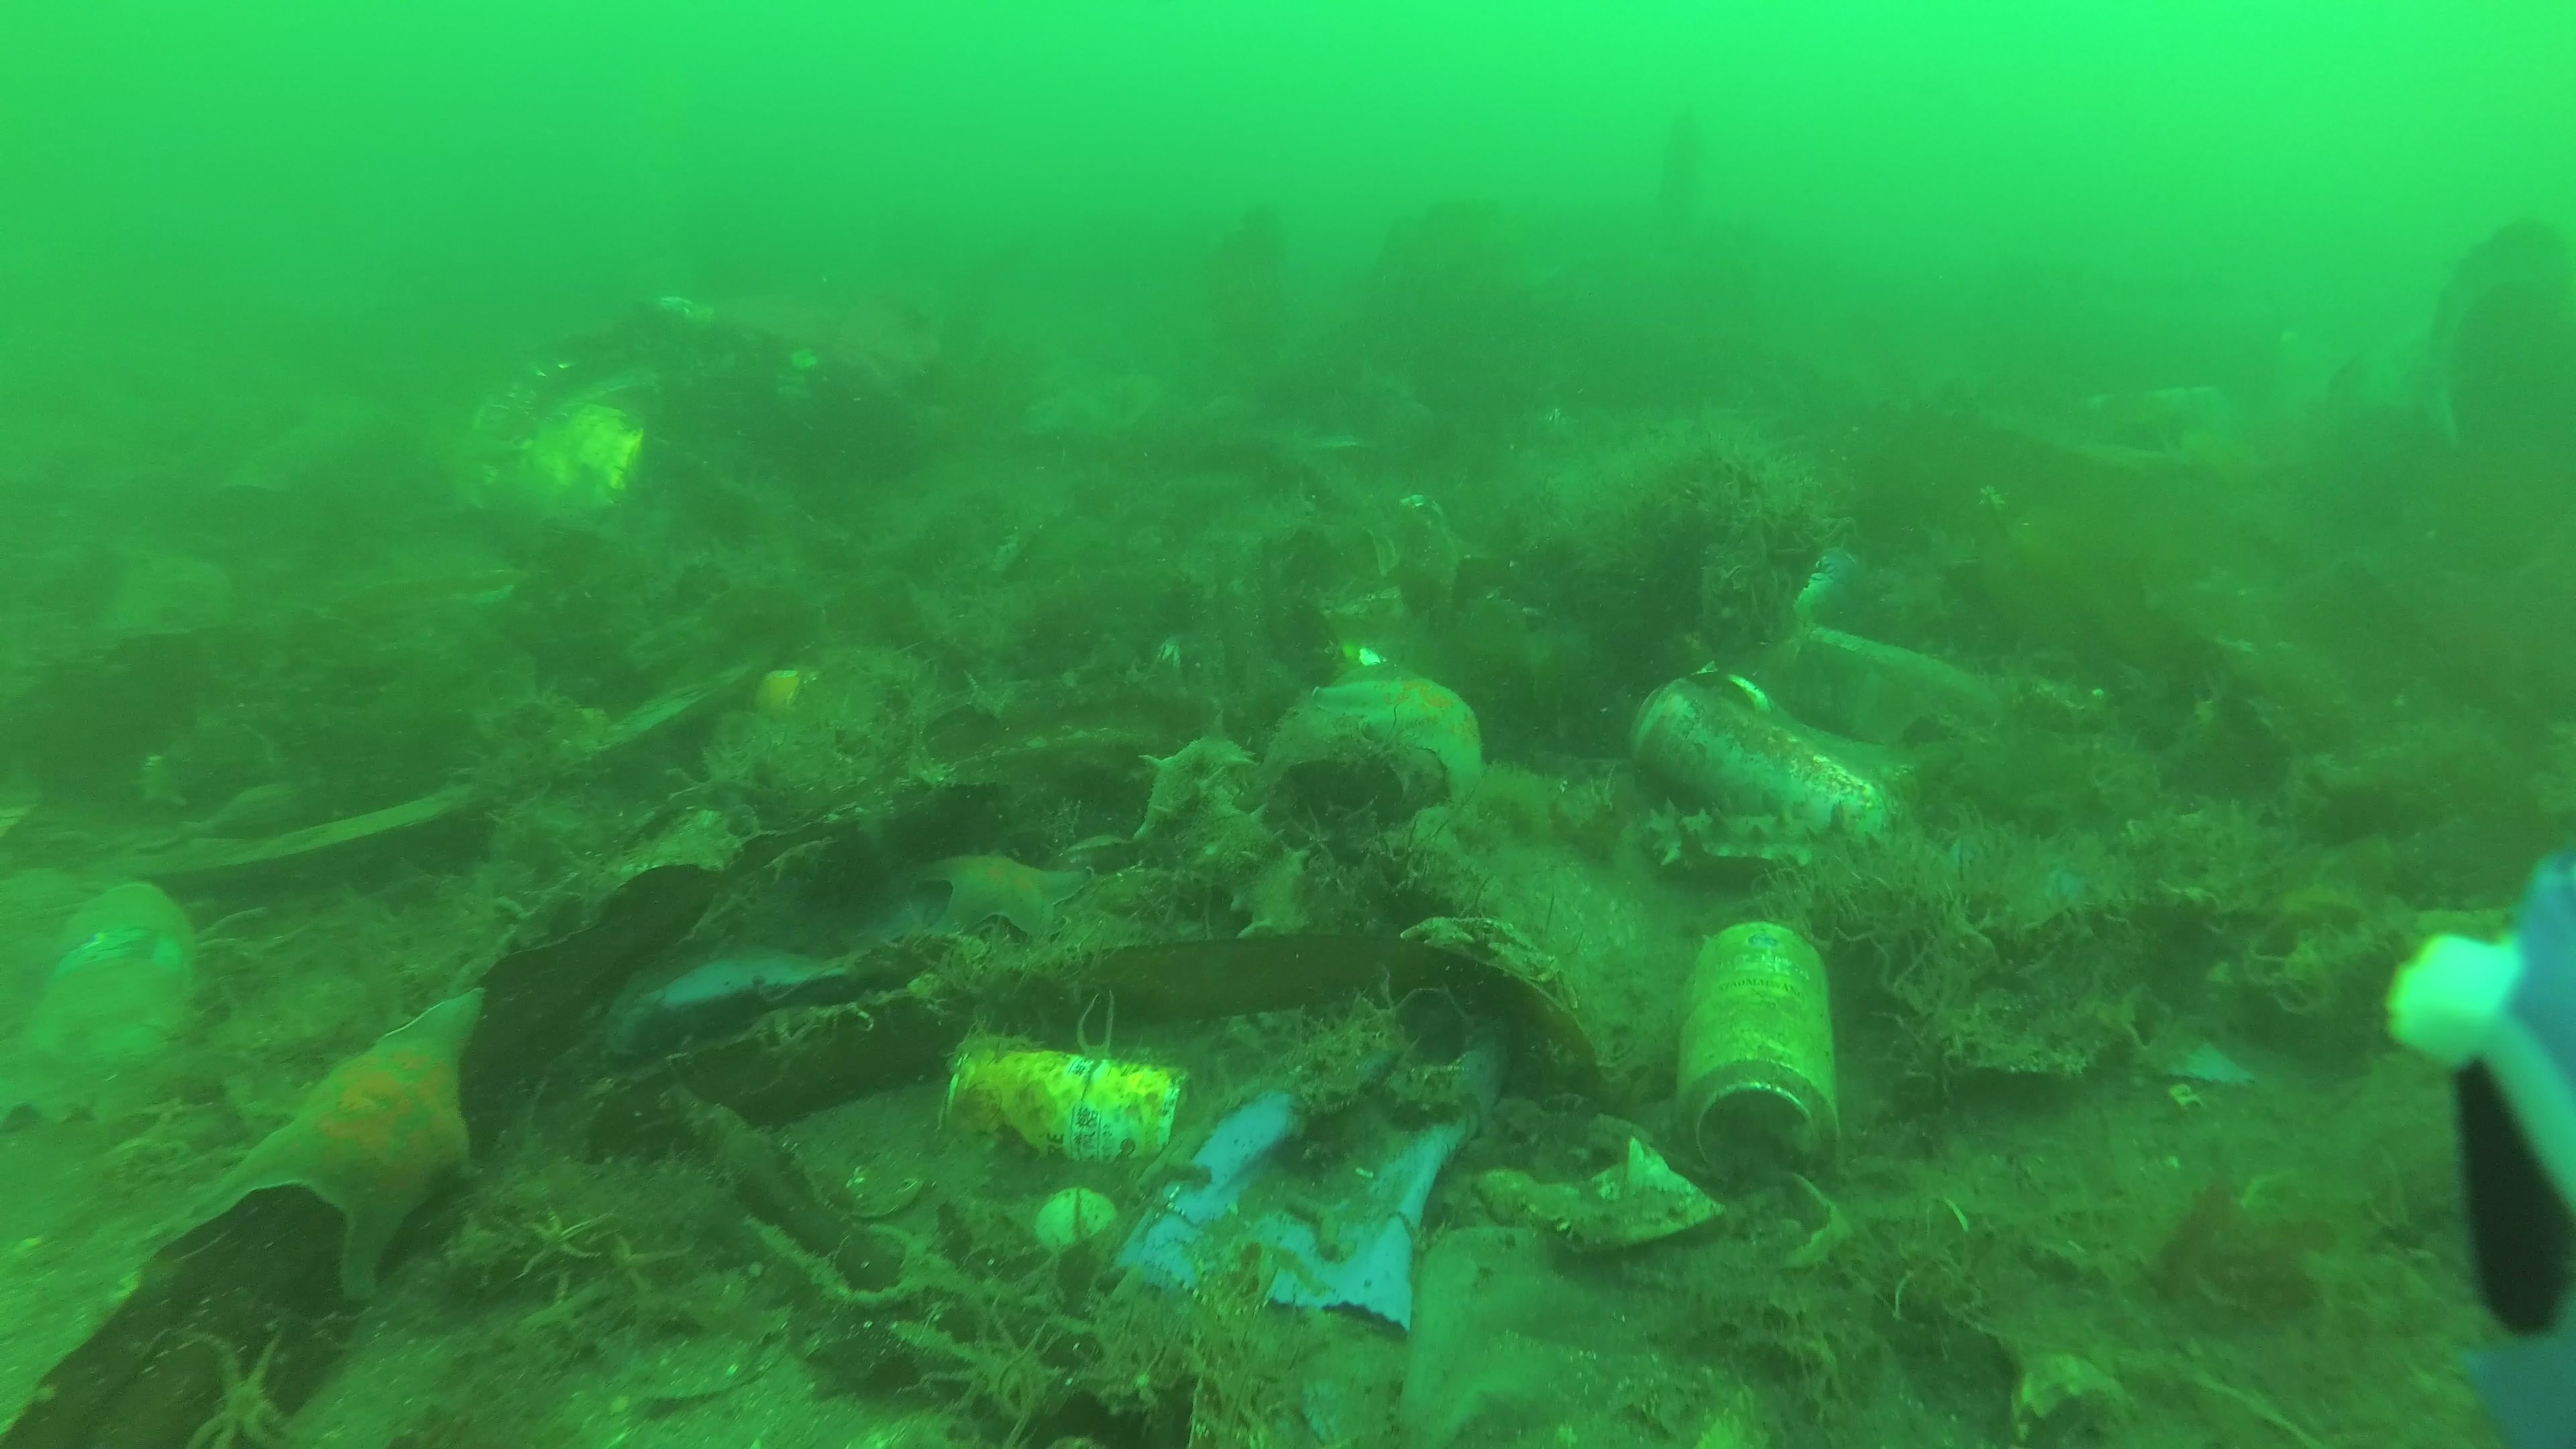holothurian: (1134, 722, 1313, 939), (1640, 796, 1870, 883)
scallop: (1049, 833, 1129, 881)
starfish: (138, 993, 485, 1302), (1253, 681, 1491, 812), (909, 849, 1074, 948), (195, 1334, 288, 1449), (518, 1210, 602, 1281)
